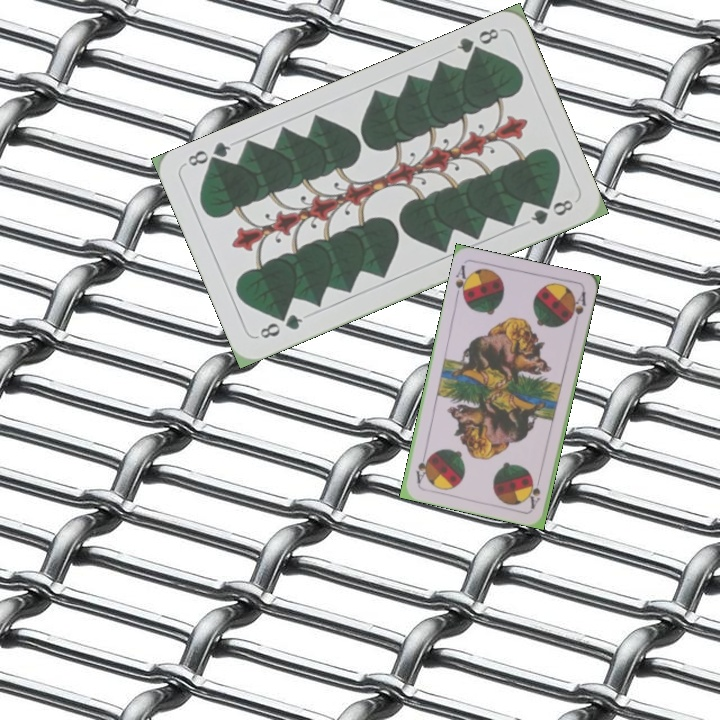G8: (452, 24, 502, 60), (253, 310, 305, 341)
SA: (451, 261, 473, 302), (526, 471, 544, 511)
